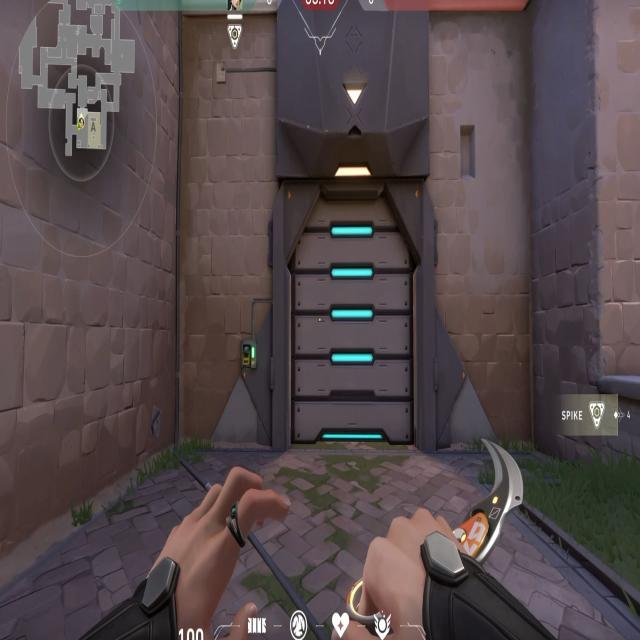A_Door: (284, 181, 427, 447)
